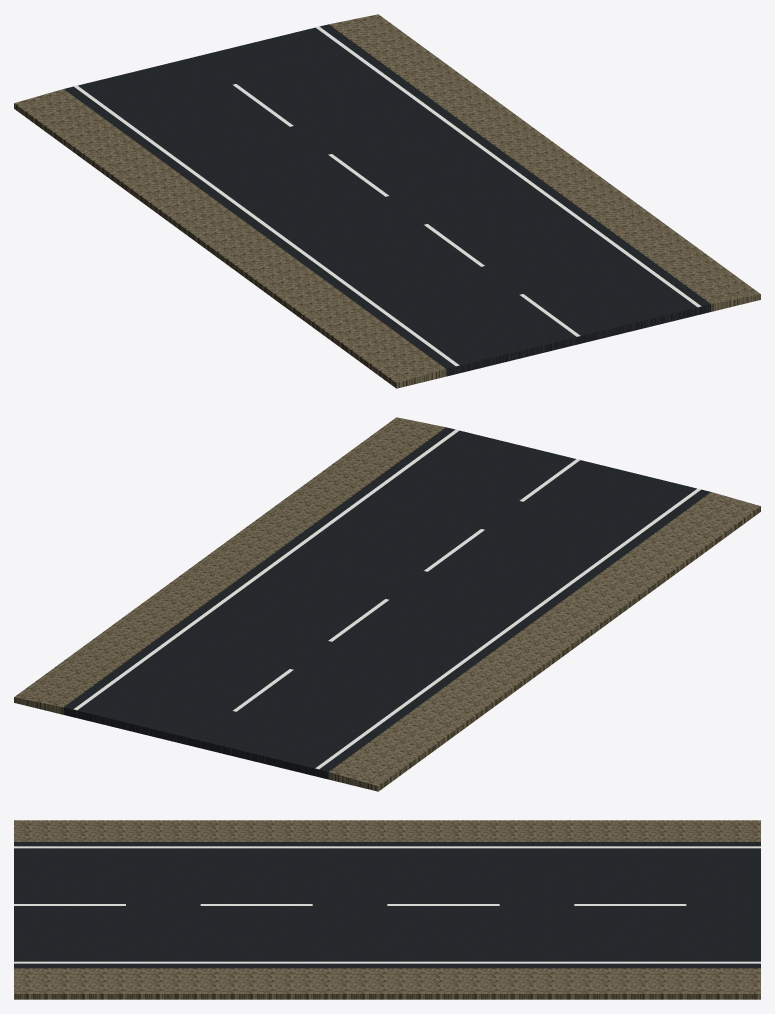
File: RK_Road_Rural_20m.glb
The picture shows the model from 3 angles, top to bottom: view 1: azimuth 30°, elevation 25°; view 2: azimuth 150°, elevation 25°; view 3: azimuth 270°, elevation 25°; orthographic projection. The views are drawn at different scales.
Parts seen in each view (by area): view 1: Surface_Asphalt.001, Shoulder_Gravel, Markings_White.001; view 2: Surface_Asphalt.001, Shoulder_Gravel, Markings_White.001; view 3: Surface_Asphalt.001, Shoulder_Gravel, Markings_White.001.
Boxes of the visible parts, x1=… form: Surface_Asphalt.001: x1=64, y1=24, x2=711, y2=376; Shoulder_Gravel: x1=14, y1=14, x2=760, y2=388; Markings_White.001: x1=73, y1=26, x2=701, y2=366; Surface_Asphalt.001: x1=63, y1=427, x2=710, y2=779; Shoulder_Gravel: x1=14, y1=417, x2=760, y2=791; Markings_White.001: x1=73, y1=429, x2=701, y2=769; Surface_Asphalt.001: x1=14, y1=842, x2=760, y2=968; Shoulder_Gravel: x1=14, y1=820, x2=760, y2=999; Markings_White.001: x1=14, y1=846, x2=760, y2=963.
Size of the model in its own units: 11 by 0.229 by 20.
Materials: 3 (2 with a texture image).
